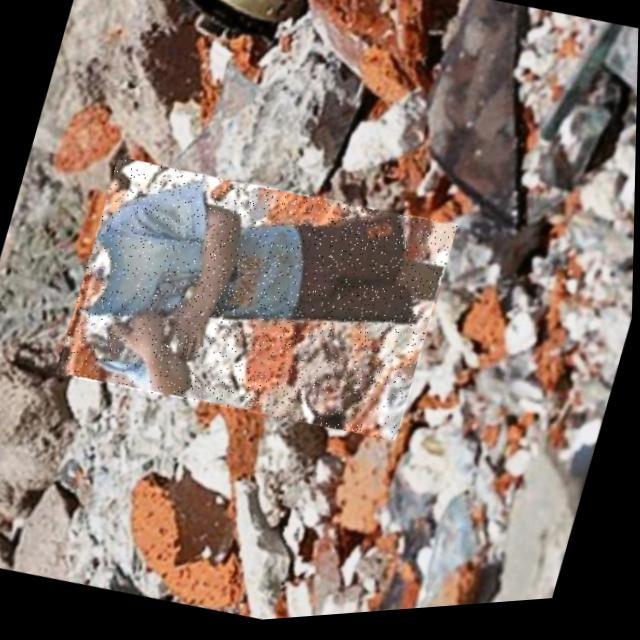Person in Rubble: (56, 139, 461, 466)
